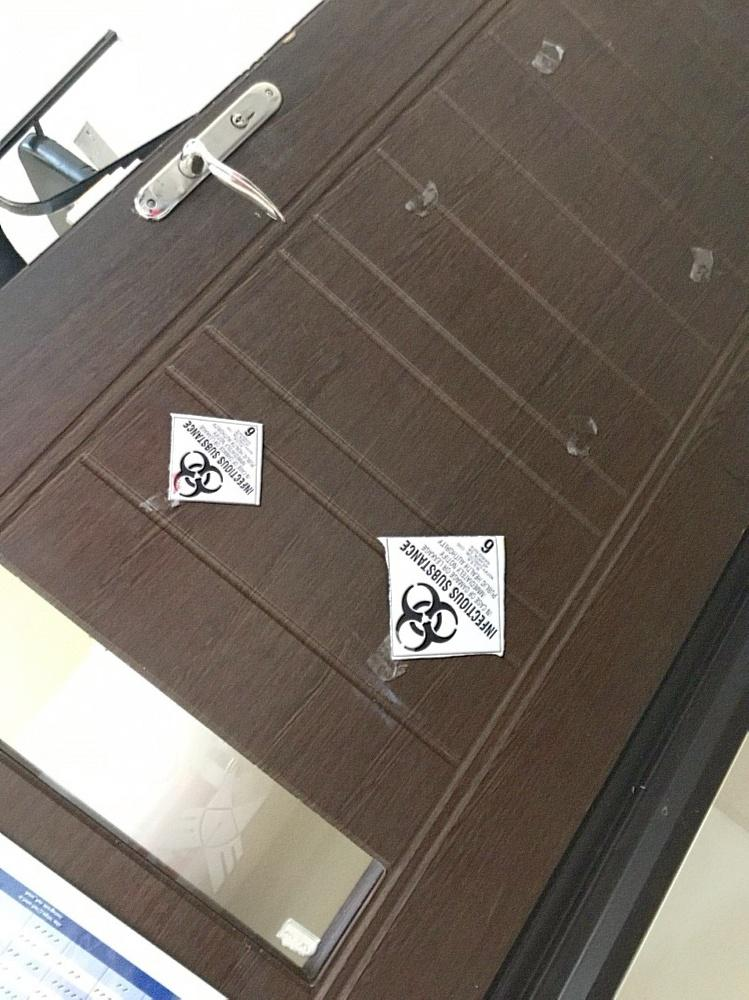infectious-substance: (371, 530, 503, 663), (163, 409, 266, 512)
